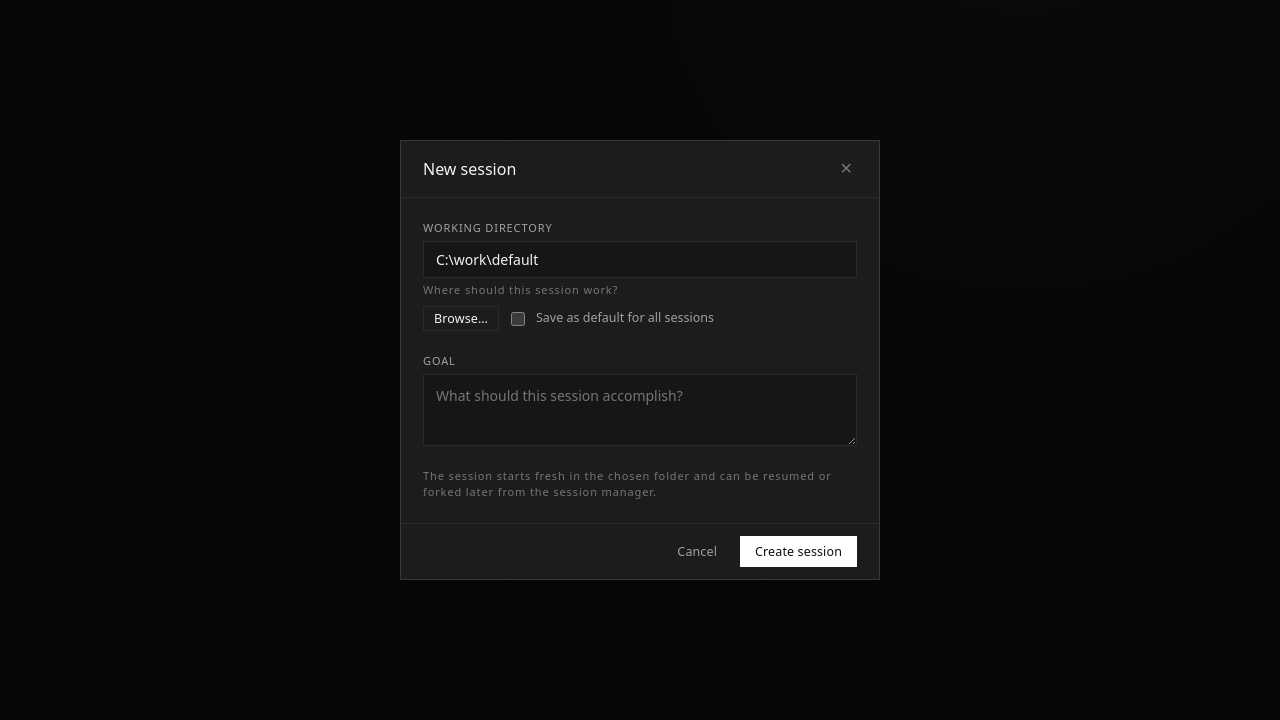
Test: NewSessionModal › shows a hint when the folder picker returns nothing
The width and height of the screenshot is (1280, 720).
Click the button "Browse…" at (461, 319), box top-left (423, 306), bottom-right (499, 331)
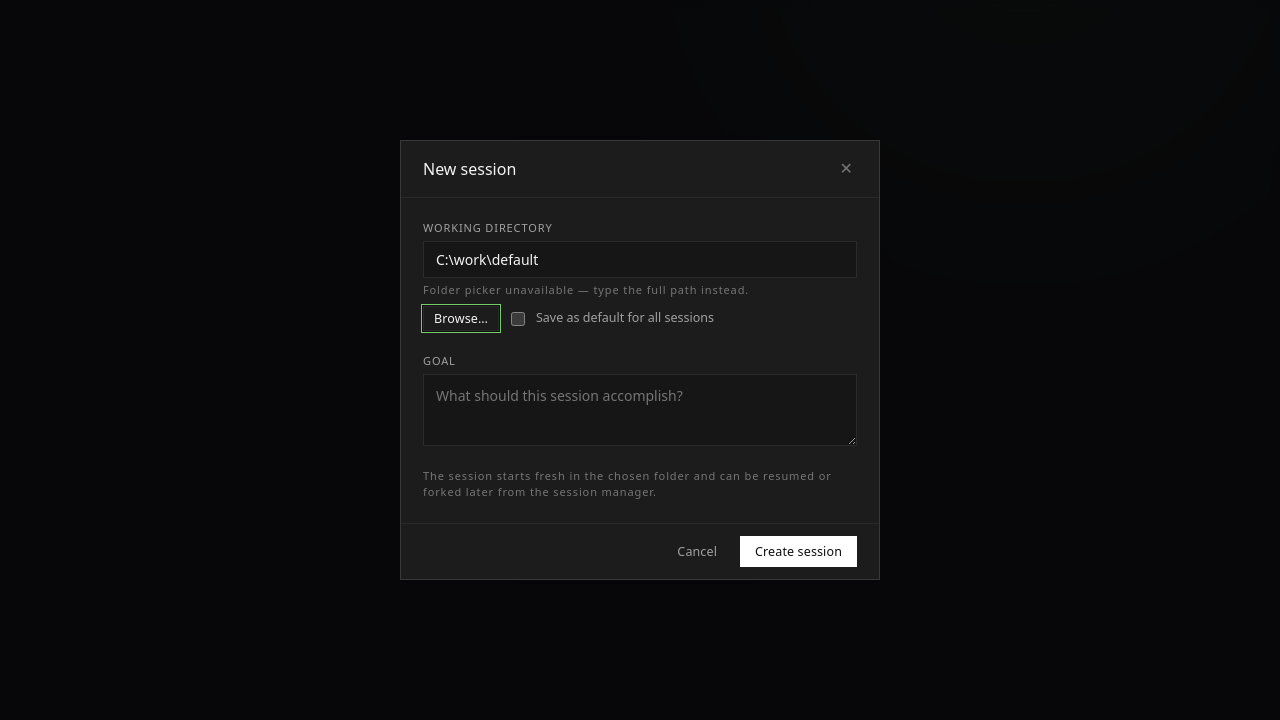
expect the text "Folder picker unavailable — type the full path instead." is shown: met, box top-left (423, 282), bottom-right (749, 297)
